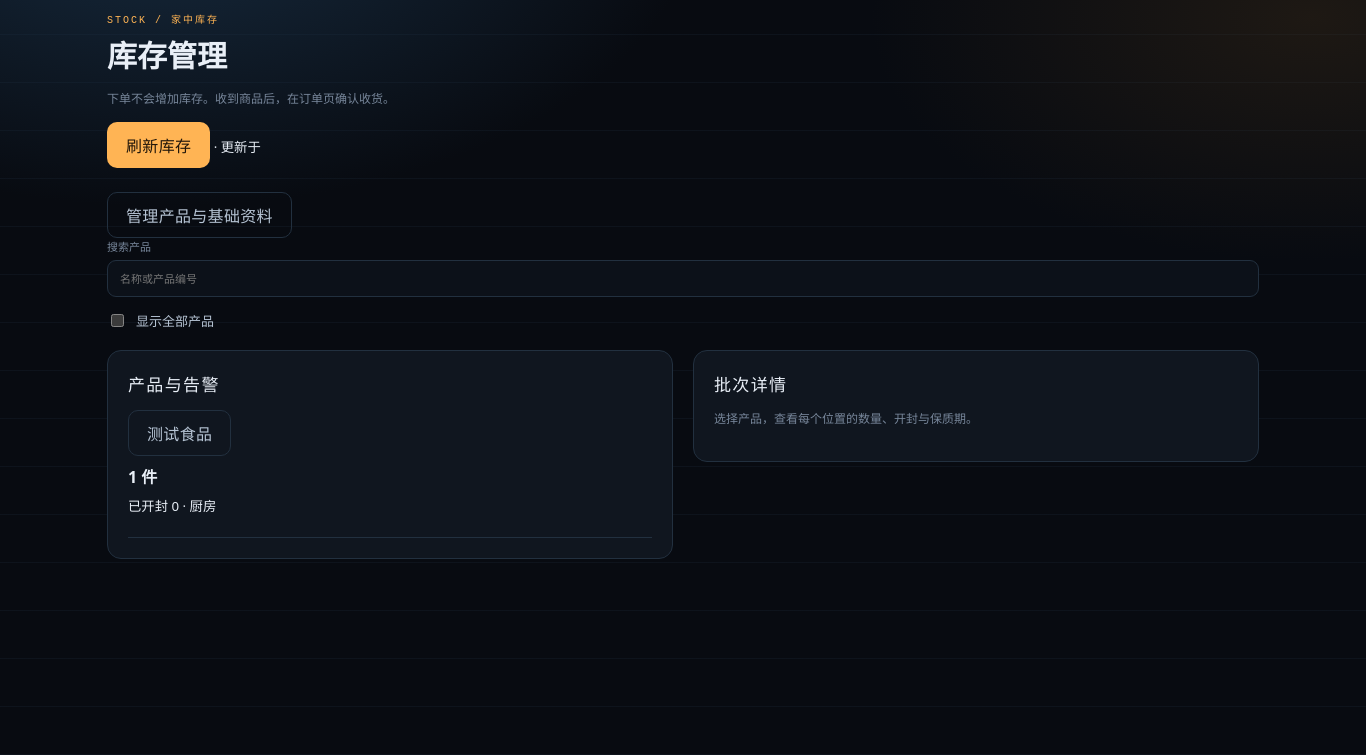
Scenario: 人工结论保存后即使库存刷新失败仍显示新状态 applied=true
Click the button "测试食品".
click(180, 433)  # box [128,410,231,456]
(page scrolled)
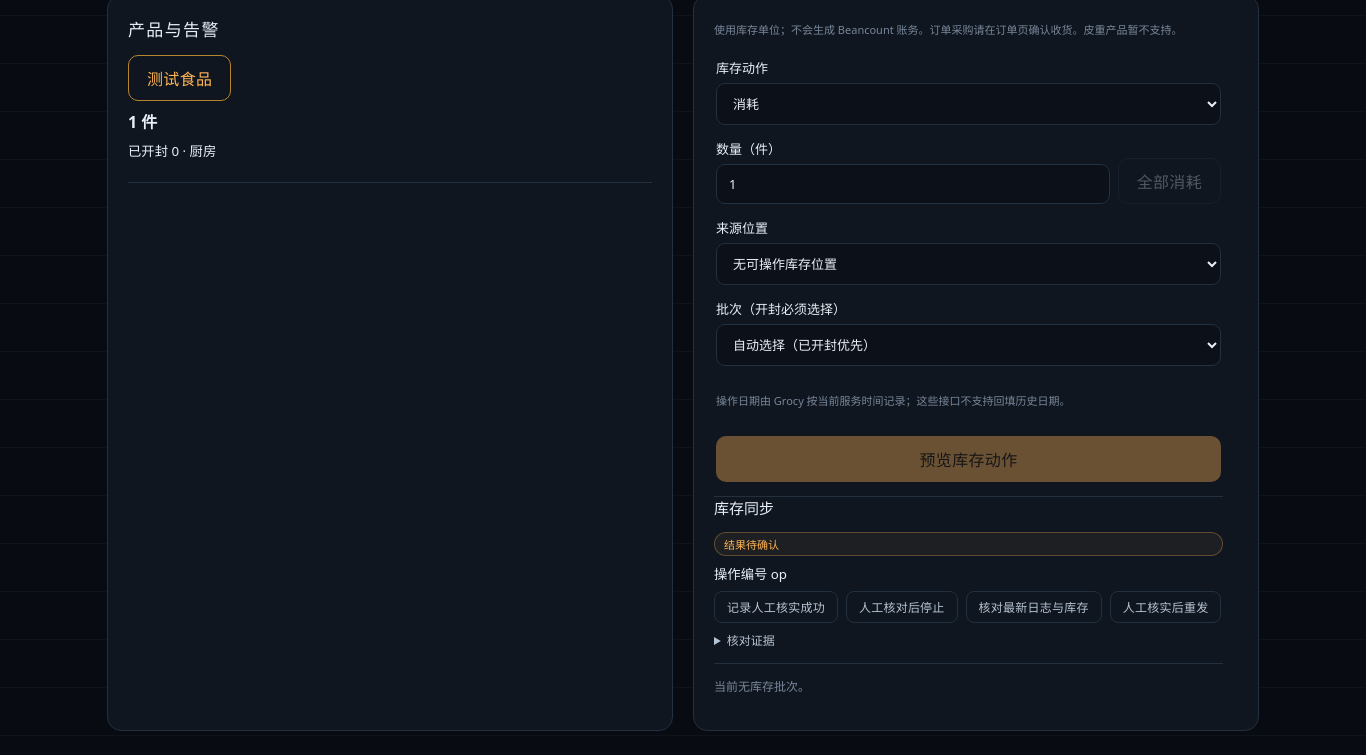
Click the button "记录人工核实成功".
click(776, 607)  # box [714,591,838,623]
(page scrolled)
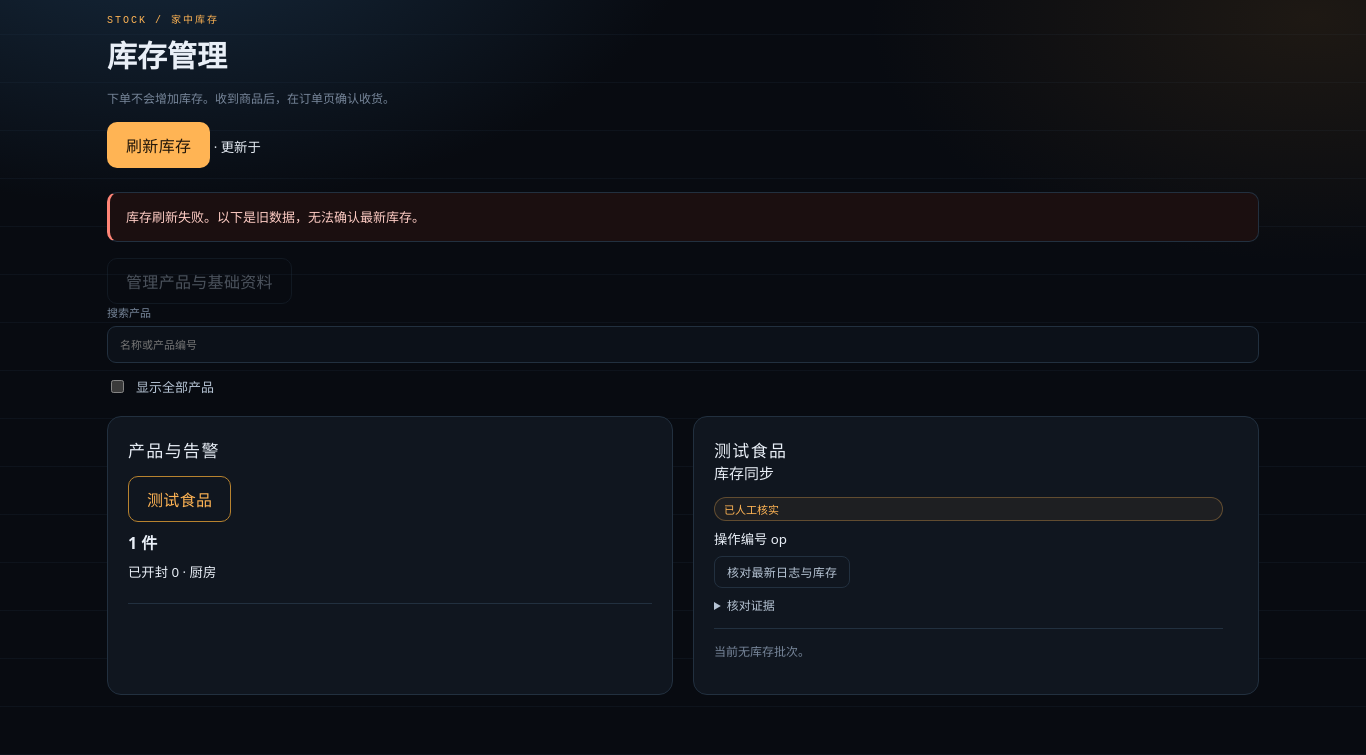
Result: the text "库存刷新失败。以下是旧数据，无法确认最新库存。" is shown at [126,206,425,228]
Result: the text "已人工核实" is shown at [714,497,1223,521]
Result: the text "结果待确认" is gone
